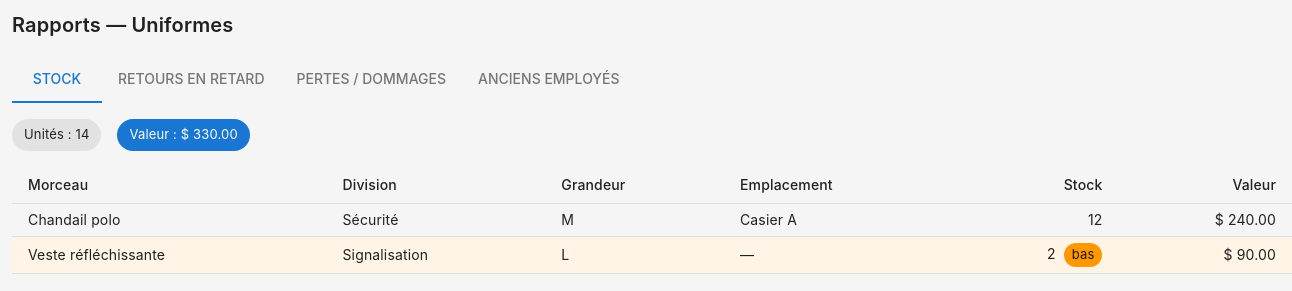
Test: UniformReportsPage › affiche le message d'état vide quand aucun retour n'est en retard
Check: the text "Chandail polo" is shown, box [12,203,326,236]
Click the tab "Retours en retard" at (191, 79), box [102,55,280,103]
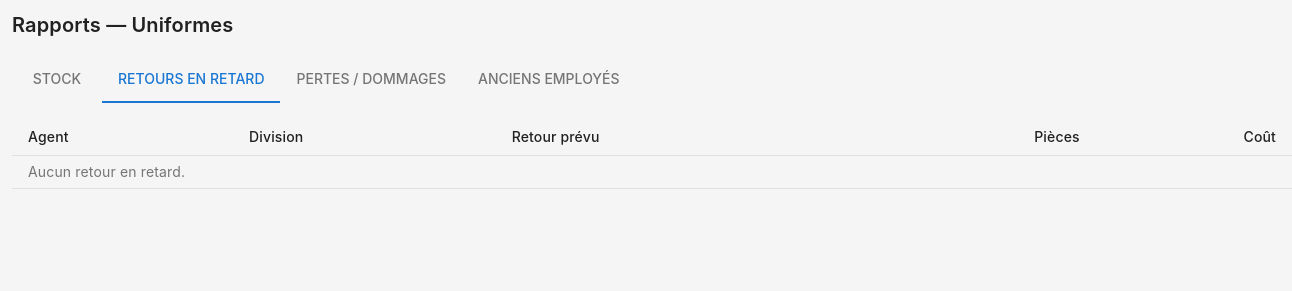
Check: the text "Aucun retour en retard." is shown, box [28,163,185,180]
